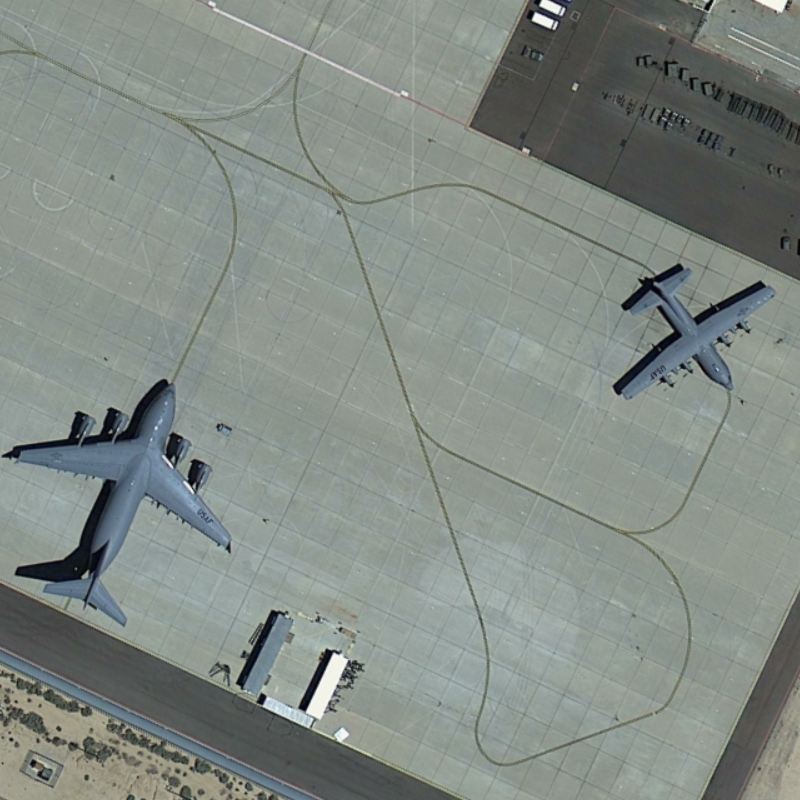A2: (609, 249, 782, 417)
A3: (2, 375, 240, 637)
